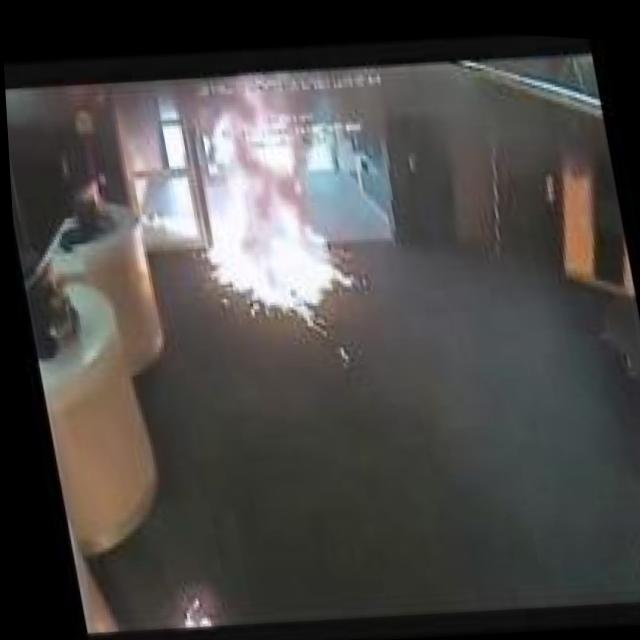fire: (165, 73, 377, 346)
